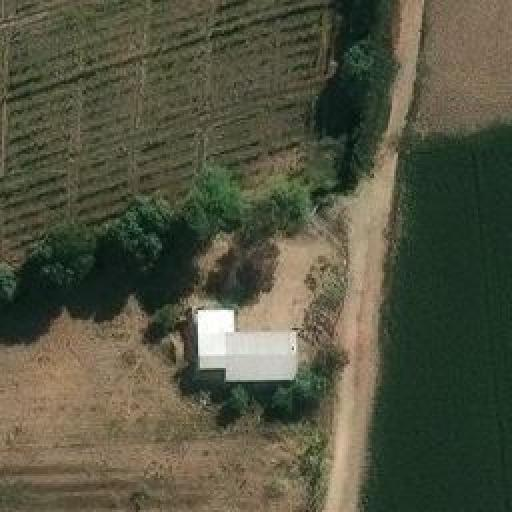manzanas: (188, 309, 305, 388)
